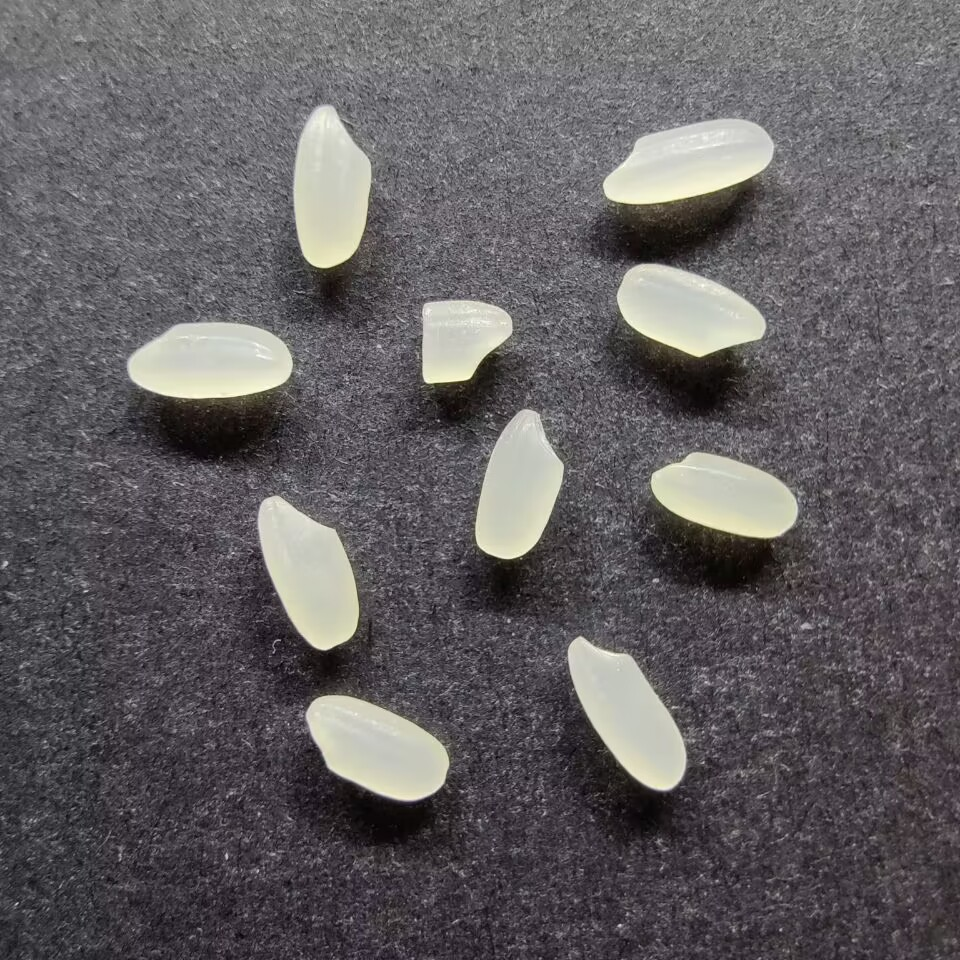broken: (418, 297, 515, 386)
rice: (565, 634, 688, 792), (254, 494, 361, 651), (303, 693, 449, 802), (601, 115, 773, 206), (614, 261, 769, 359), (472, 408, 566, 560), (290, 103, 372, 270), (648, 450, 798, 540), (125, 320, 293, 400)
